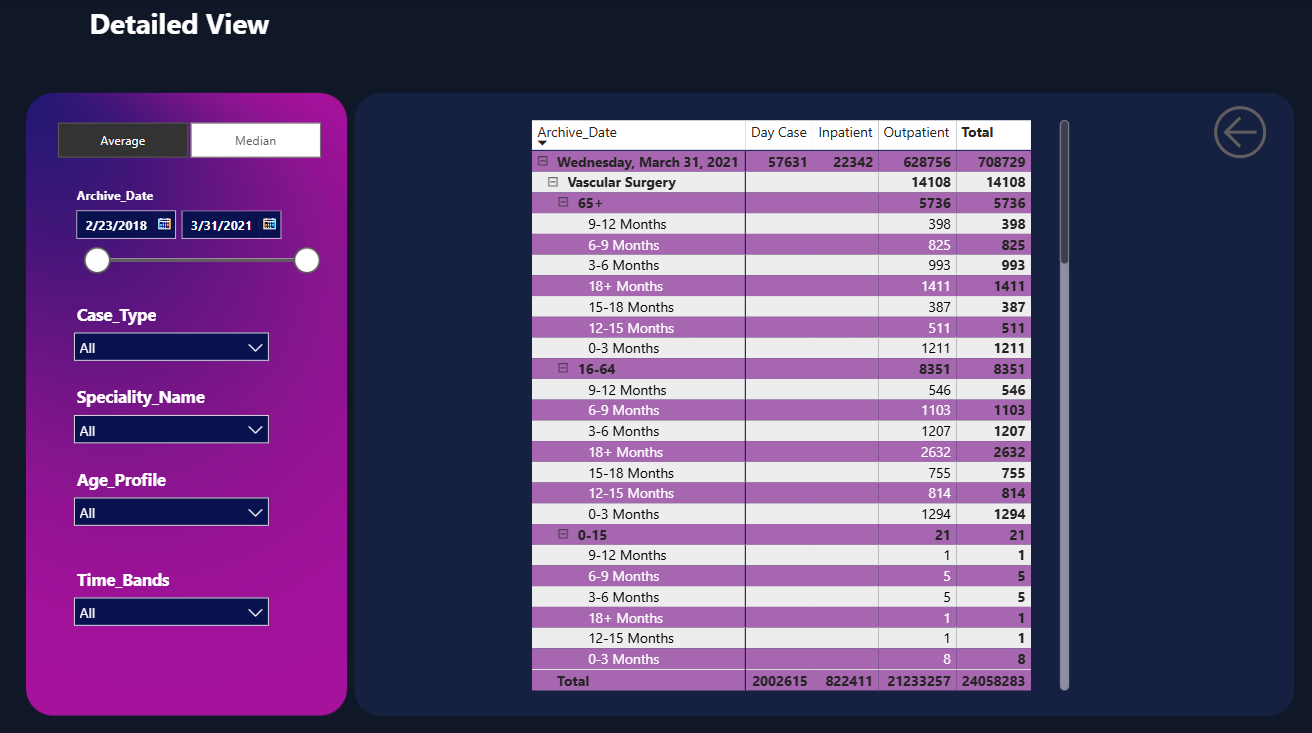

The page's visual inventory and layout, read from the dashboard file:
{"tool":"powerbi","page":{"name":"Detail","canvas":[1280,720],"ordinal":1},"visuals":[{"type":"slicer","fields":{"Values":["Calculation.Calc Method"]},"box":[32,112,304,48],"z":0},{"type":"slicer","fields":{"Values":["All_Data.Archive_Date"]},"box":[64,176,256,96],"z":1000},{"type":"slicer","fields":{"Values":["All_Data.Case_Type"]},"box":[64,288,208,80],"z":2000},{"type":"slicer","fields":{"Values":["All_Data.Speciality_Name"]},"box":[64,368,208,80],"z":3000},{"type":"textbox","box":[0,0,352,56],"z":4000},{"type":"slicer","fields":{"Values":["All_Data.Age_Profile"]},"box":[64,448,208,80],"z":5000},{"type":"slicer","fields":{"Values":["All_Data.Time_Bands"]},"box":[64,544,208,80],"z":6000},{"type":"pivotTable","fields":{"Rows":["All_Data.Archive_Date","All_Data.Speciality_Name","All_Data.Age_Profile","All_Data.Time_Bands"],"Columns":["All_Data.Case_Type"],"Values":["Sum(All_Data.Total)"]},"box":[512,112,528,560],"z":7000},{"type":"actionButton","box":[1168,96,112,64],"z":8000}]}

Visuals, with their boxes in screenshot pixels (x1, y1, x2, y2), scaled from the page's 1280x720 canvas onto the 1312x733 screenshot:
slicer - Calculation.Calc Method: [left=33, top=114, right=344, bottom=163]
slicer - All_Data.Archive_Date: [left=66, top=179, right=328, bottom=277]
slicer - All_Data.Case_Type: [left=66, top=293, right=279, bottom=375]
slicer - All_Data.Speciality_Name: [left=66, top=375, right=279, bottom=456]
textbox: [left=0, top=0, right=361, bottom=57]
slicer - All_Data.Age_Profile: [left=66, top=456, right=279, bottom=538]
slicer - All_Data.Time_Bands: [left=66, top=554, right=279, bottom=635]
pivotTable - All_Data.Archive_Date x All_Data.Speciality_Name: [left=525, top=114, right=1066, bottom=684]
actionButton: [left=1197, top=98, right=1311, bottom=163]
